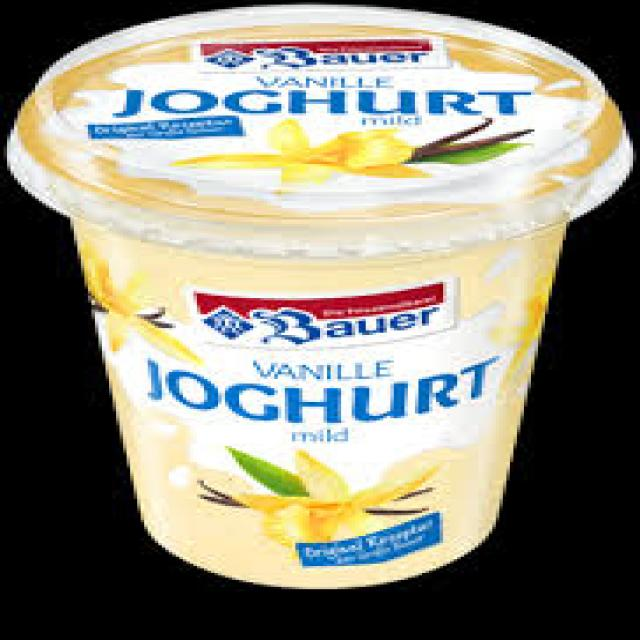plastic: (0, 0, 629, 587)
